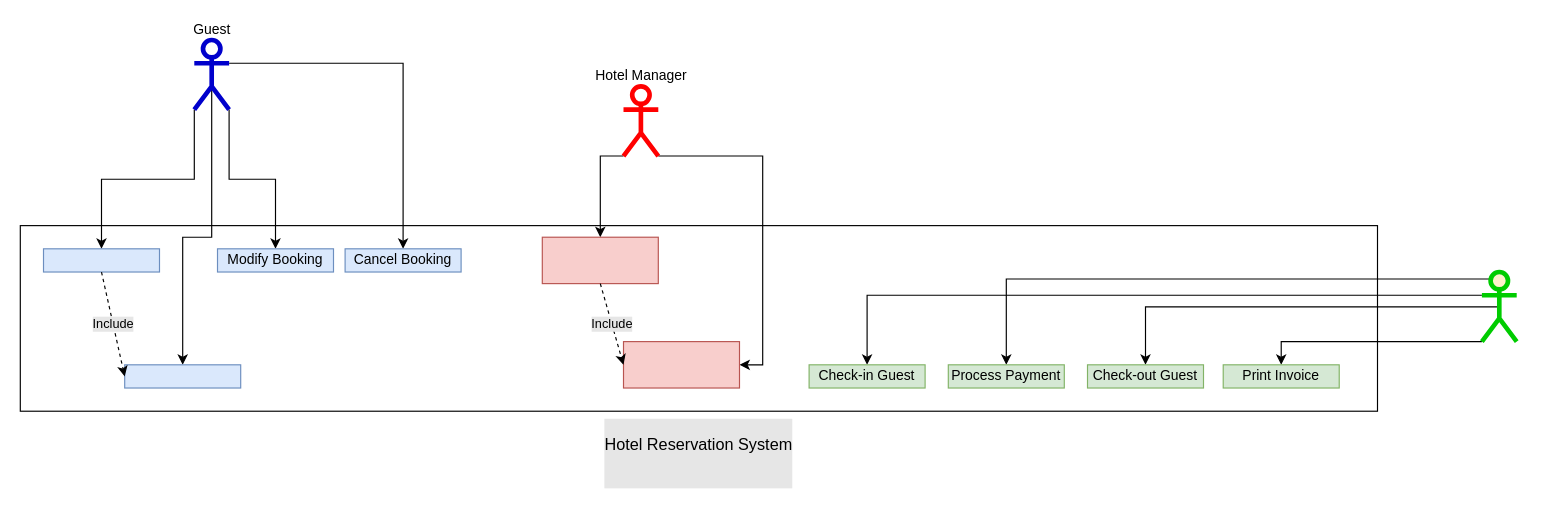
The diagram is 1558 pixels wide and 508 high, and some of its shapes have lost their labels. The shapes that lost their labels are listed below. From the top down, each one's centre as x and y in pixels, then its label:
(101,260): Book Room
(599,260): Generate Report
(1498,306): Receptionist
(182,376): Register Account
(681,364): View Report
